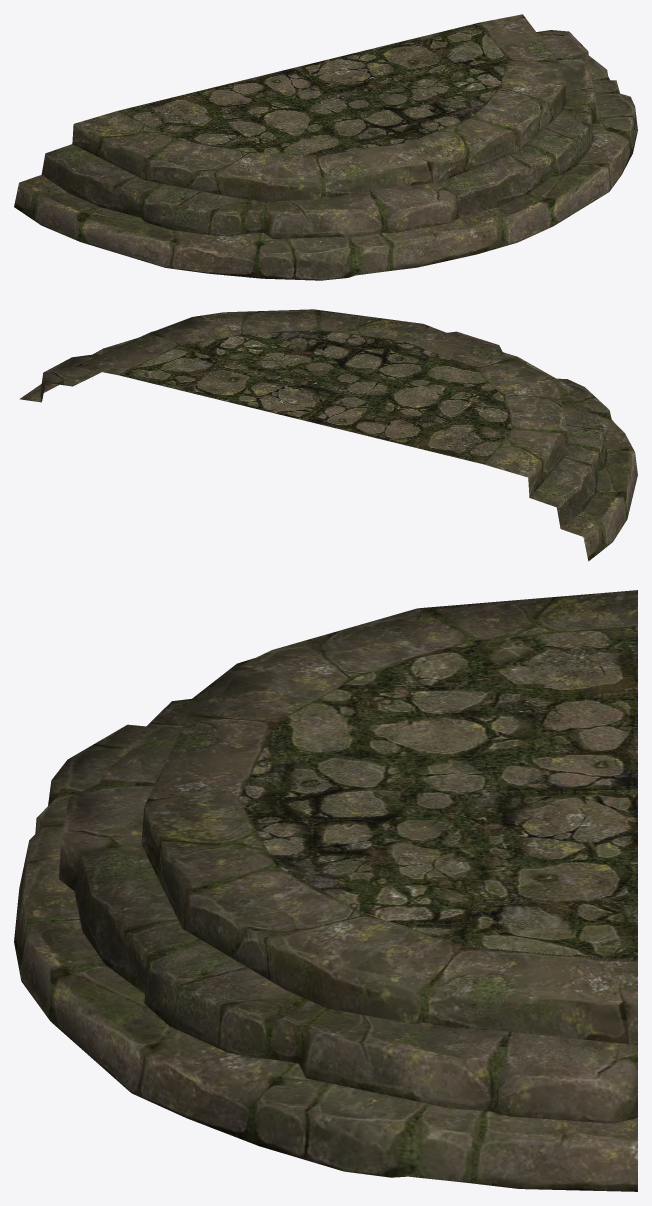
The model's file is Plaza_Hemicycle_01-transformed.glb.
3 renders of one model, top to bottom at view 1: azimuth 30°, elevation 25°; view 2: azimuth 150°, elevation 25°; view 3: azimuth 270°, elevation 25°, orthographic. The views are drawn at different scales.
Visible parts, largest first — view 1: default; view 2: default; view 3: default.
Boxes of the visible parts, box(x1,y1,x2,y2) form: default: box(14, 14, 637, 280); default: box(19, 309, 637, 561); default: box(14, 590, 637, 1191).
Bounding box in the file's own units: 9.41 × 1.12 × 4.71.
Materials: 2 (2 with a texture image).
